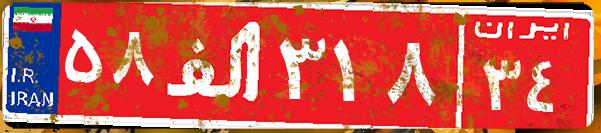1: (330, 28, 385, 110)
3: (273, 28, 330, 110), (475, 38, 525, 113)
4: (525, 38, 570, 115)
5: (57, 26, 110, 107)
8: (385, 28, 445, 110), (110, 28, 158, 105)
الف: (158, 15, 273, 115)
